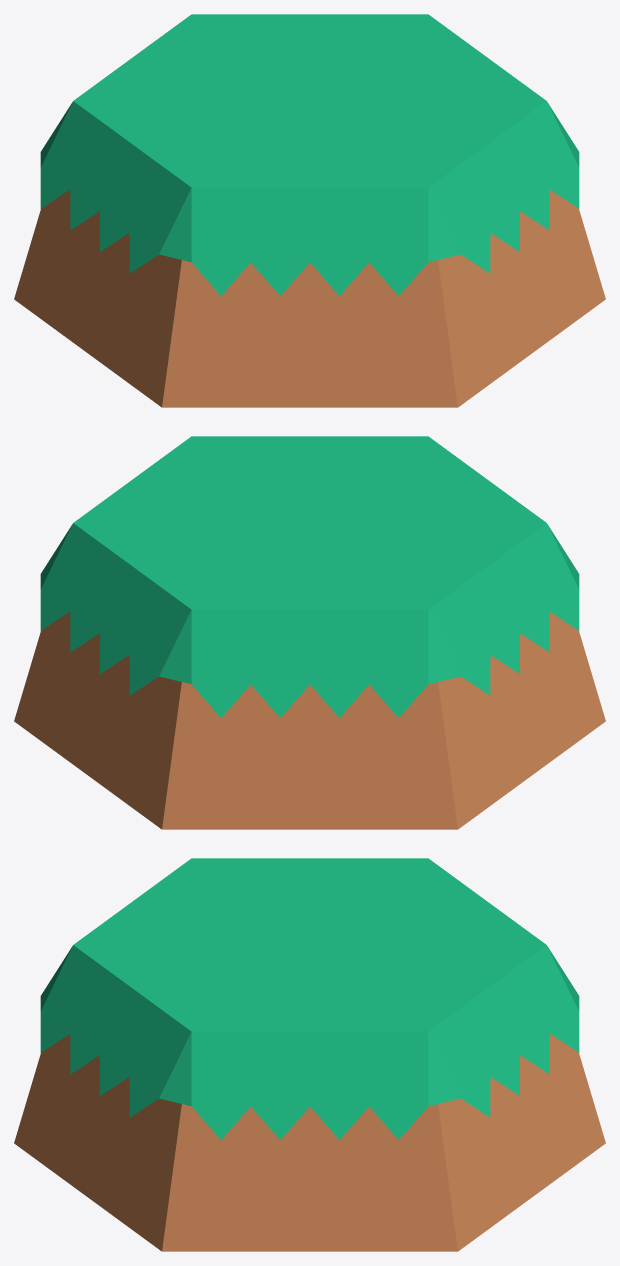
Rendered from blockHexagonLow.obj.
3 views of the same model, one above another, from view 1: azimuth 30°, elevation 25°; view 2: azimuth 150°, elevation 25°; view 3: azimuth 270°, elevation 25° (orthographic).
Parts seen in each view (by area): view 1: blockHexagonLow; view 2: blockHexagonLow; view 3: blockHexagonLow.
Part boxes in pixels (bbox=[...]): blockHexagonLow: bbox=[14, 14, 605, 407]; blockHexagonLow: bbox=[14, 436, 605, 829]; blockHexagonLow: bbox=[14, 858, 605, 1251].
Size of the model in its own units: 1.01 by 0.427 by 1.15.
